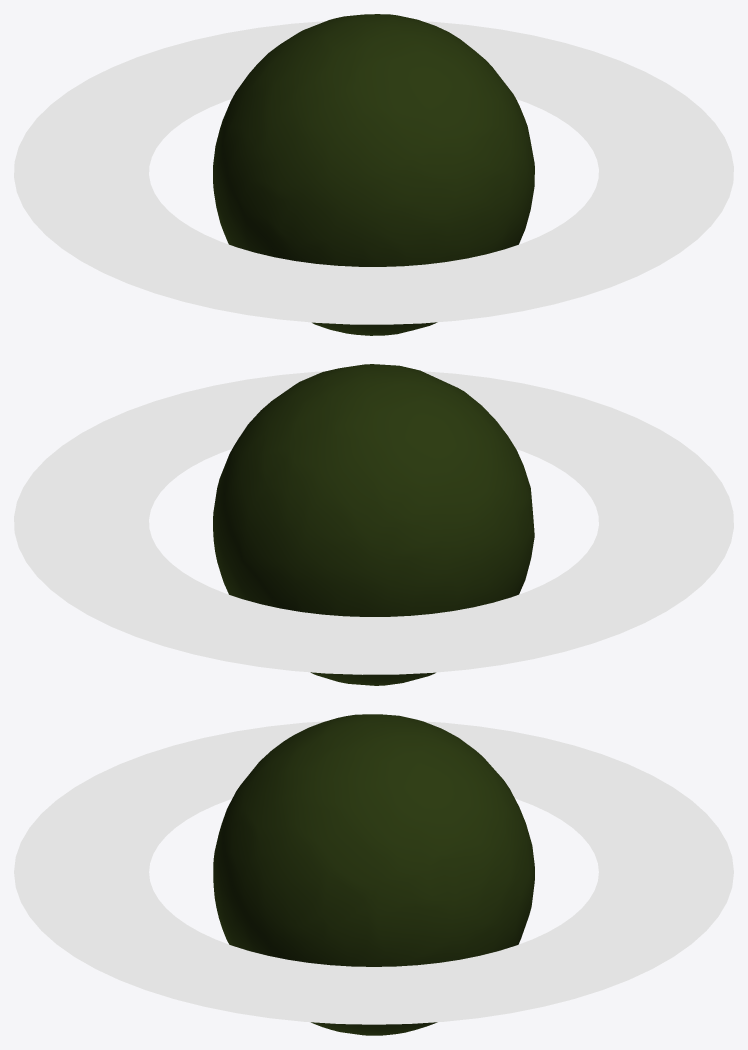
Rendered from SM_MiniSaturn.fbx.
3 renders of one model, top to bottom at view 1: azimuth 30°, elevation 25°; view 2: azimuth 150°, elevation 25°; view 3: azimuth 270°, elevation 25°, orthographic.
Parts seen in each view (by area): view 1: MiniSaturn_geo; view 2: MiniSaturn_geo; view 3: MiniSaturn_geo.
Boxes of the visible parts, <box> form: MiniSaturn_geo: <box>14,14,733,335</box>; MiniSaturn_geo: <box>14,364,733,685</box>; MiniSaturn_geo: <box>14,714,733,1035</box>.
Size of the model in its own units: 34616 by 15453 by 34616.
